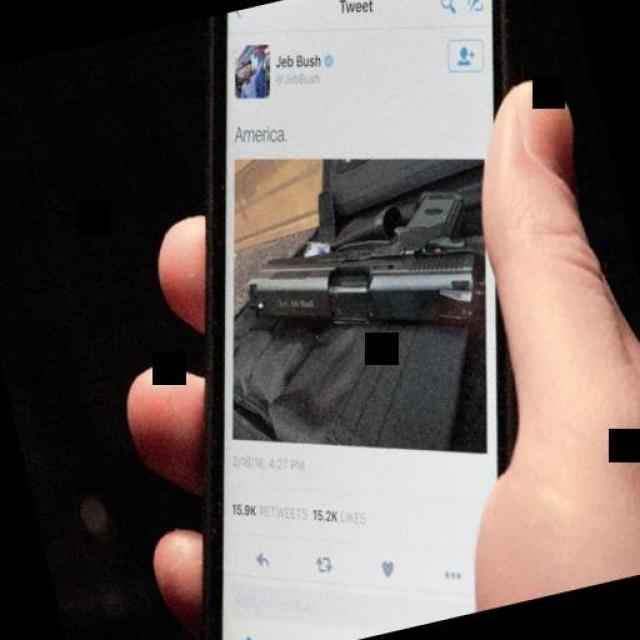gun: (228, 178, 497, 372)
